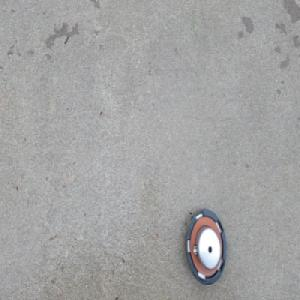FuelCap: (183, 204, 227, 284)
